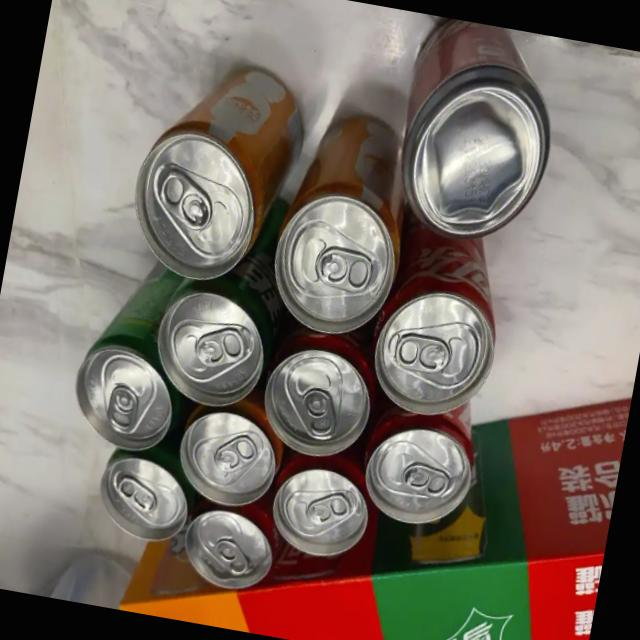can: (118, 44, 312, 295), (378, 12, 572, 254), (261, 100, 424, 346), (364, 226, 516, 430), (62, 255, 200, 461), (251, 326, 388, 470), (146, 276, 280, 418), (352, 402, 486, 540), (168, 402, 286, 516), (262, 454, 378, 567), (88, 445, 196, 549), (174, 502, 283, 600)
